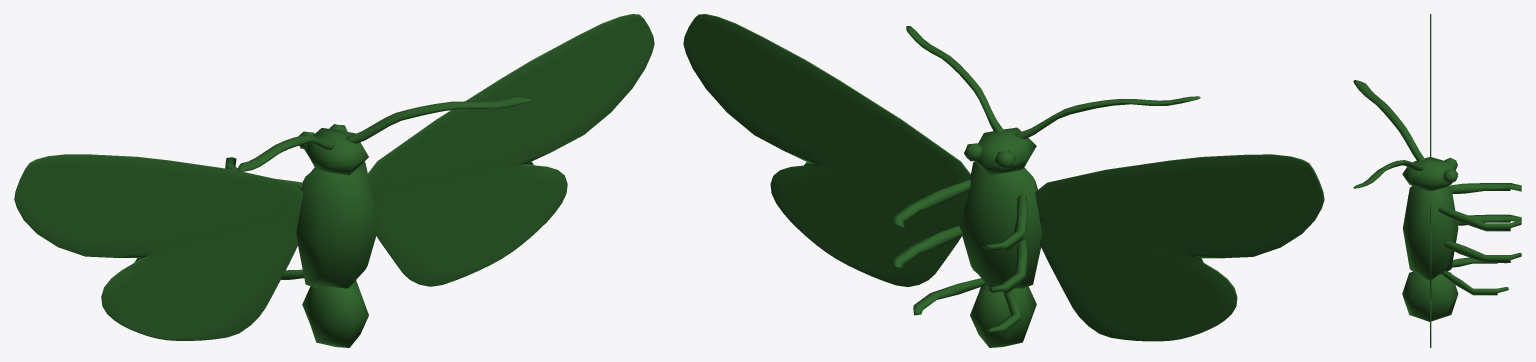
The model's file is Moth_Model_HG.fbx.
3 views of the same model, side by side, from view 1: azimuth 30°, elevation 25°; view 2: azimuth 150°, elevation 25°; view 3: azimuth 270°, elevation 25° (orthographic). The views are drawn at different scales.
Visible parts, largest first — view 1: Moth_HG; view 2: Moth_HG; view 3: Moth_HG.
Boxes of the visible parts, left/top/right/bottom form: Moth_HG: left=14, top=14, right=654, bottom=347; Moth_HG: left=683, top=14, right=1324, bottom=347; Moth_HG: left=1353, top=14, right=1521, bottom=347.
Size of the model in its own units: 1.1 by 0.4263 by 0.3304.
